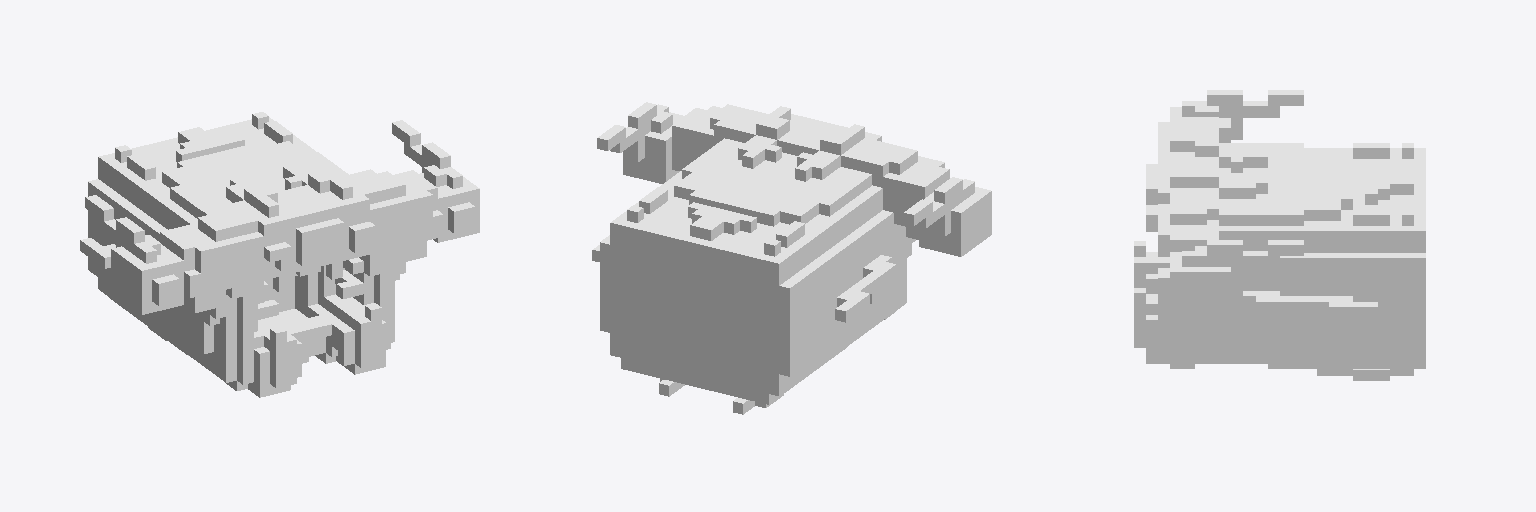
The model's file is monster_fish_head.obj.
The picture shows the model from 3 angles: view 1: azimuth 30°, elevation 25°; view 2: azimuth 150°, elevation 25°; view 3: azimuth 270°, elevation 25°; orthographic projection.
Visible parts, largest first — view 1: object 1; view 2: object 1; view 3: object 1.
Boxes of the visible parts, <box> form: object 1: <box>80,112,479,397</box>; object 1: <box>592,102,991,414</box>; object 1: <box>1134,90,1425,380</box>.
Size of the model in its own units: 3.2 by 1.8 by 2.4.